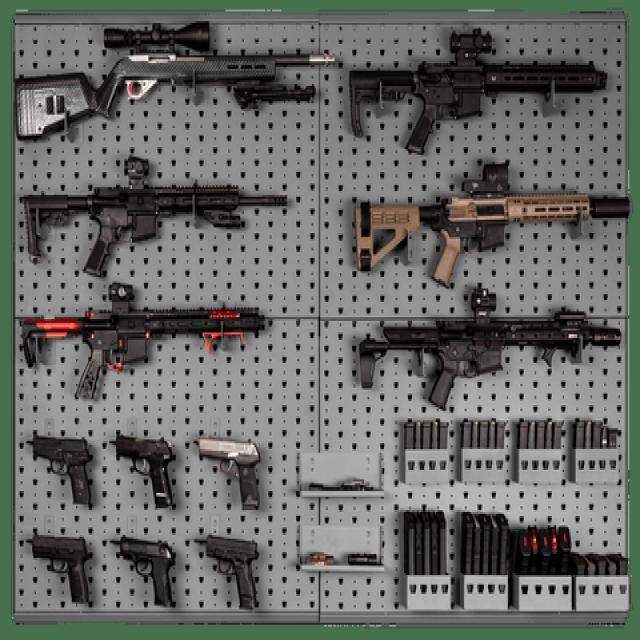HandGun: (28, 432, 93, 508), (33, 527, 92, 606), (117, 432, 176, 508), (197, 437, 260, 508), (205, 535, 260, 609), (120, 539, 175, 608)
Rifle: (16, 23, 337, 138), (353, 162, 631, 287), (351, 29, 608, 155), (21, 159, 288, 273), (357, 296, 621, 411), (17, 283, 272, 399)
